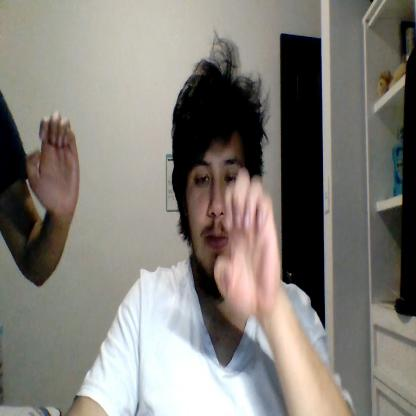E: (214, 170, 281, 316), (25, 113, 80, 214)
